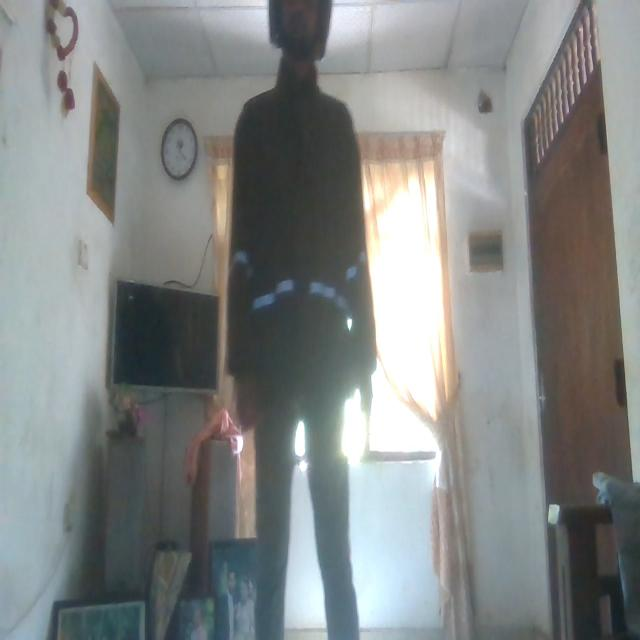Helmet_Wearer: (261, 0, 339, 55)
Jacket_Wearer: (226, 80, 370, 452)
Person: (222, 5, 386, 640)
